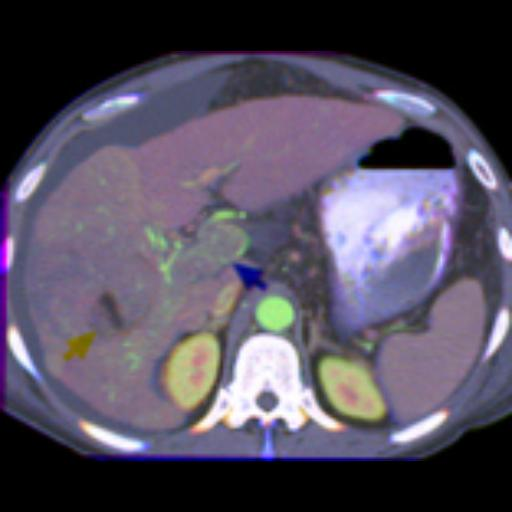Tumor: (98, 291, 132, 329)
